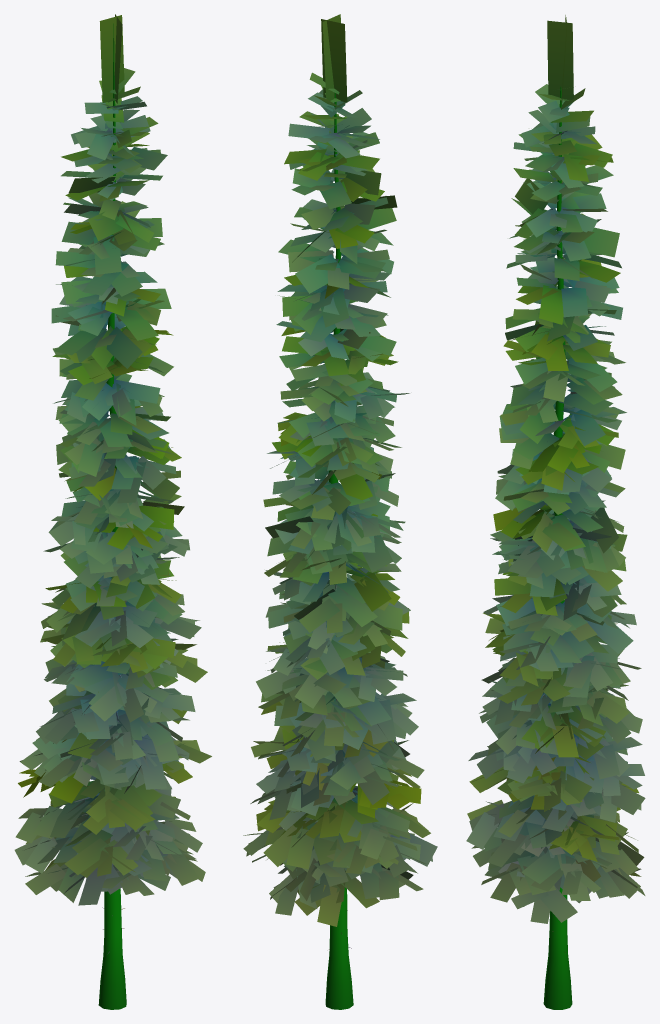
File: fir_a.glb
3 views of the same model, side by side, from view 1: azimuth 30°, elevation 25°; view 2: azimuth 150°, elevation 25°; view 3: azimuth 270°, elevation 25° (orthographic).
Parts seen in each view (by area): view 1: LOD0; view 2: LOD0; view 3: LOD0.
Part boxes in pixels (left/top/right/bottom): LOD0: left=14, top=14, right=211, bottom=1009; LOD0: left=243, top=14, right=437, bottom=1009; LOD0: left=466, top=15, right=645, bottom=1009.
Size of what is drawn, in the model's own units: 4.22 by 22.49 by 3.71.
